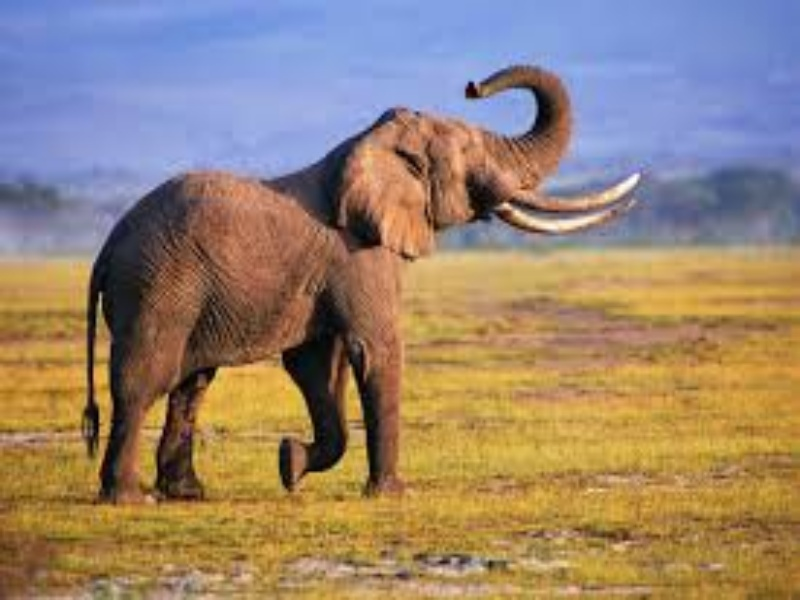elephant: (75, 57, 652, 507)
